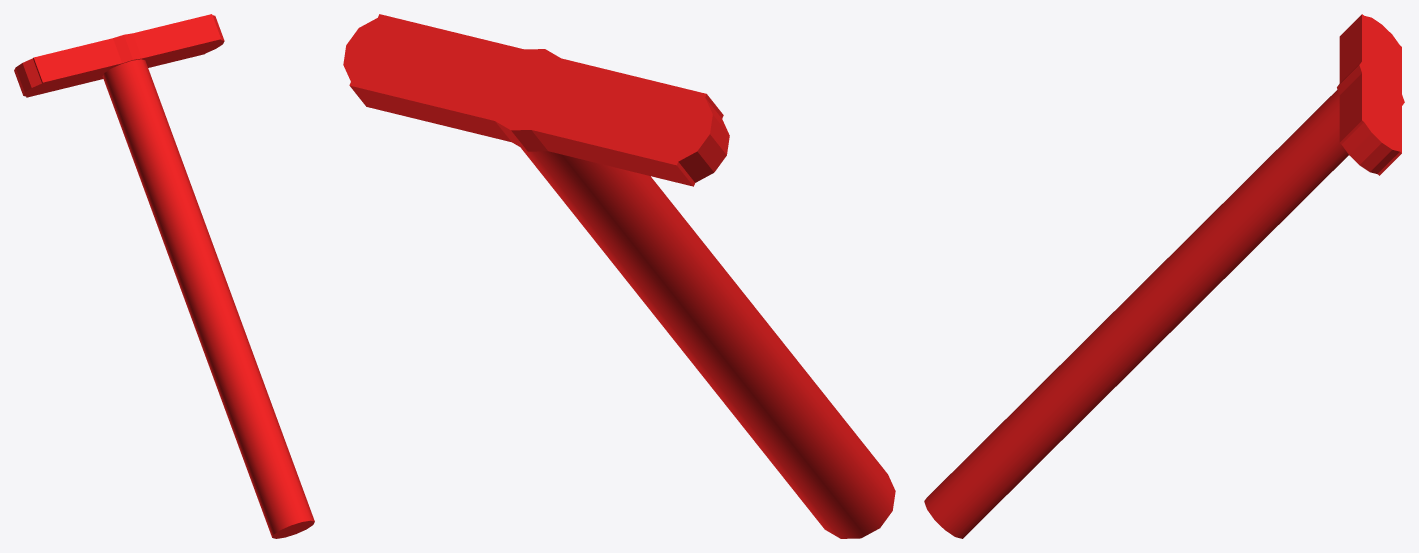
The model's file is FYP_TempleTrapCorridor_LeverHandle.FBX.
3 renders of one model, left to right at view 1: azimuth 30°, elevation 25°; view 2: azimuth 150°, elevation 25°; view 3: azimuth 270°, elevation 25°, orthographic. The views are drawn at different scales.
Parts seen in each view (by area): view 1: Handle; view 2: Handle; view 3: Handle.
Part boxes in pixels (x1,y1,x2,y2): Handle: (14, 14, 314, 538); Handle: (343, 14, 895, 538); Handle: (924, 14, 1404, 538).
Bounding box in the file's own units: 0.5 × 0.9279 × 0.8592.
